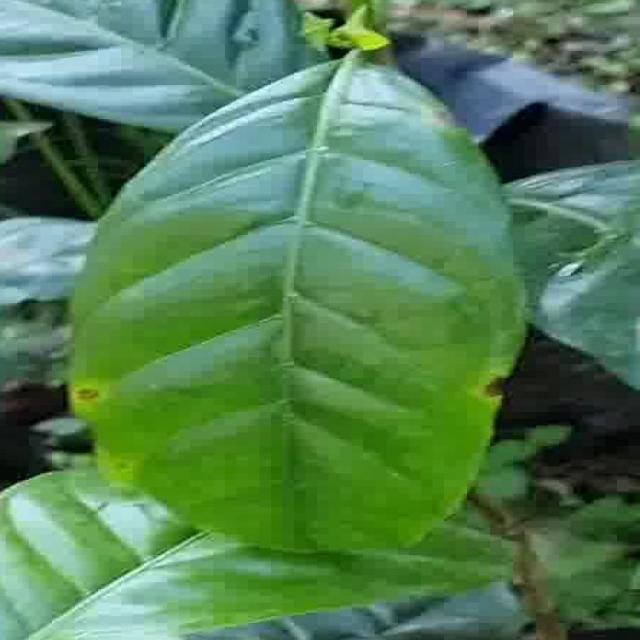leaves: (20, 0, 588, 603)
